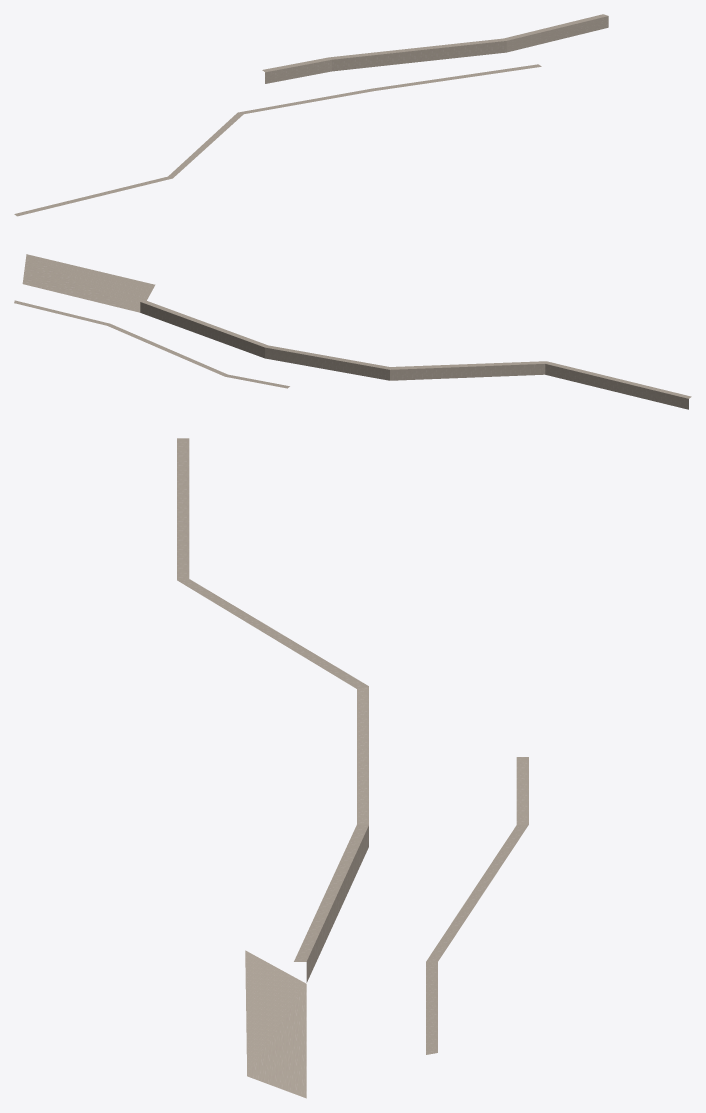
File: kd_connection_town-ground_surface_1_12.glb
The picture shows the model from 3 angles, top to bottom: view 1: azimuth 30°, elevation 25°; view 2: azimuth 150°, elevation 25°; view 3: azimuth 270°, elevation 25°; orthographic projection. The views are drawn at different scales.
Visible parts, largest first — view 1: kd_connection_town-ground_surface_1_12; view 2: kd_connection_town-ground_surface_1_12; view 3: kd_connection_town-ground_surface_1_12.
Boxes of the visible parts, bbox=[...] form: kd_connection_town-ground_surface_1_12: bbox=[14, 14, 608, 216]; kd_connection_town-ground_surface_1_12: bbox=[14, 254, 691, 409]; kd_connection_town-ground_surface_1_12: bbox=[177, 438, 528, 1098].
Bounding box in the file's own units: 24.78 × 0.7 × 5.83.
Materials: 1 (1 with a texture image).
